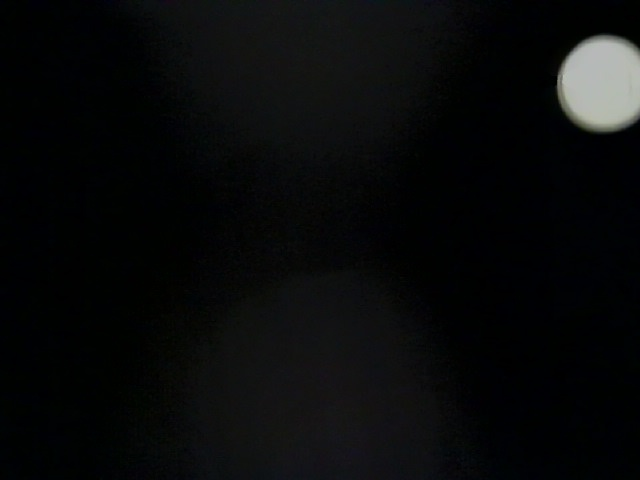CYLJ: (21, 130, 212, 480)
